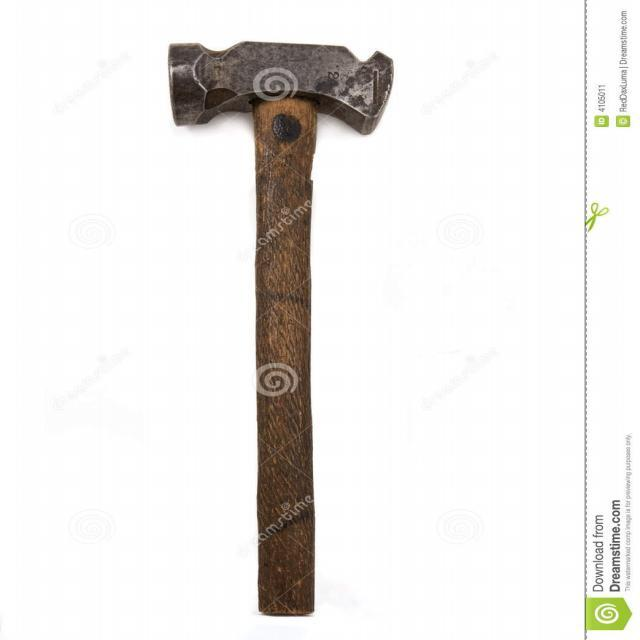hammer: (157, 29, 413, 628)
